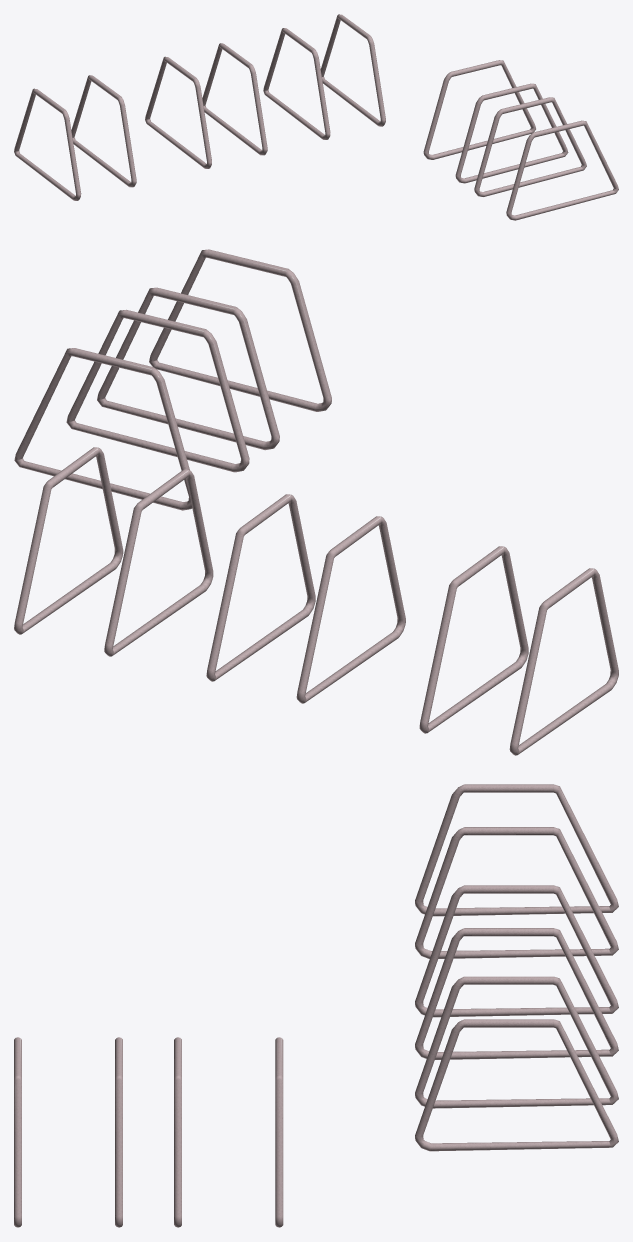
Rendered from Chair_Legs.fbx.
3 views of the same model, one above another, from view 1: azimuth 30°, elevation 25°; view 2: azimuth 150°, elevation 25°; view 3: azimuth 270°, elevation 25° (orthographic). The views are drawn at different scales.
Parts seen in each view (by area): view 1: polySurface66; view 2: polySurface66; view 3: polySurface66.
Boxes of the visible parts, box(x1,y1,x2,y2) form: polySurface66: box(14, 14, 618, 220); polySurface66: box(14, 249, 618, 755); polySurface66: box(14, 784, 618, 1227).
Size of the model in its own units: 232 by 44.54 by 185.
